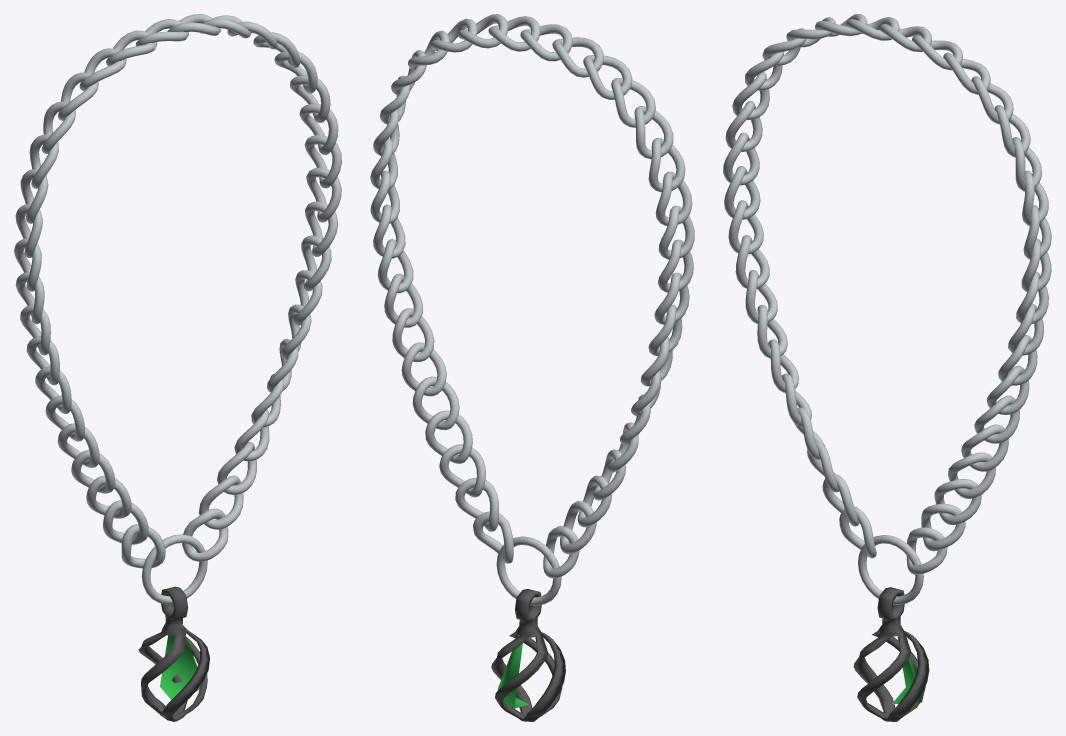
The model's file is Necklace.glb.
3 views of the same model, side by side, from view 1: azimuth 30°, elevation 25°; view 2: azimuth 150°, elevation 25°; view 3: azimuth 330°, elevation 25° (orthographic).
Parts seen in each view (by area): view 1: chain_BezierCircle, GemCage, Gem; view 2: chain_BezierCircle, GemCage, Gem; view 3: chain_BezierCircle, GemCage.
Boxes of the visible parts, x1=… form: chain_BezierCircle: x1=14, y1=14, x2=341, y2=604; GemCage: x1=138, y1=586, x2=209, y2=721; Gem: x1=160, y1=635, x2=200, y2=699; chain_BezierCircle: x1=370, y1=14, x2=694, y2=605; GemCage: x1=491, y1=589, x2=565, y2=721; Gem: x1=498, y1=634, x2=528, y2=708; chain_BezierCircle: x1=723, y1=14, x2=1051, y2=604; GemCage: x1=853, y1=587, x2=929, y2=721.
Size of the model in its own units: 1.75 by 3.74 by 0.3947.
3 materials, 1 textured.
